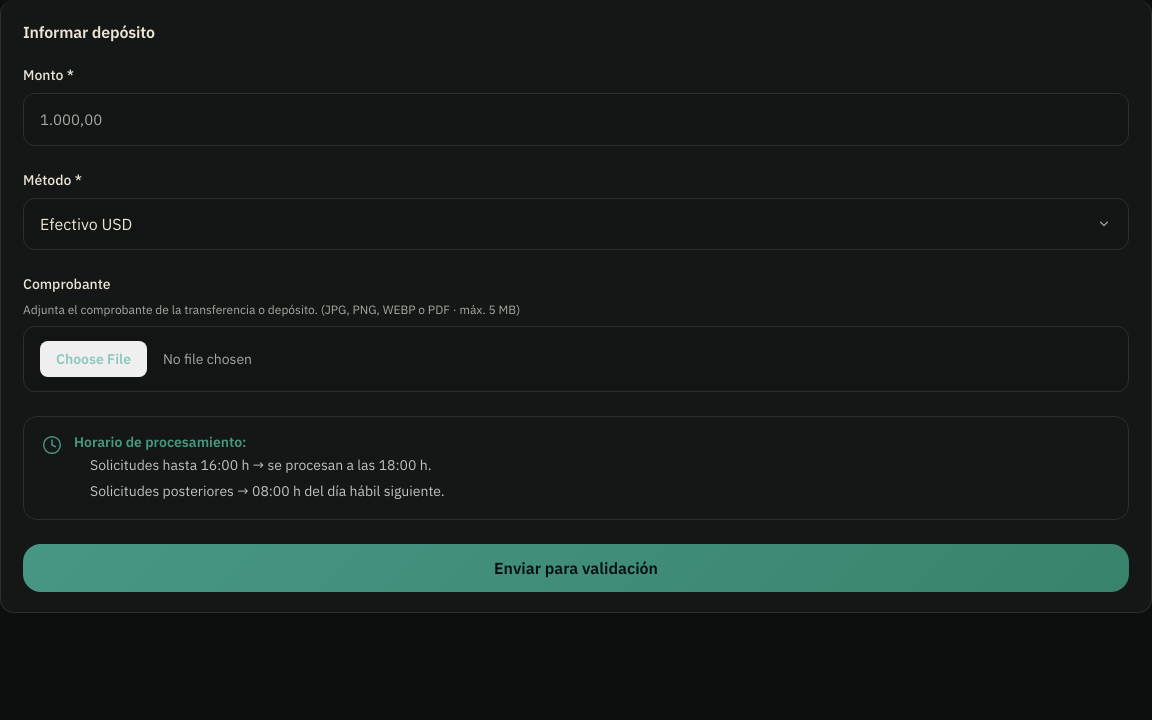
DepositForm › shows service error
Type "10" into the number field labelled "Monto *" at (576, 119), box [23, 93, 1129, 146]
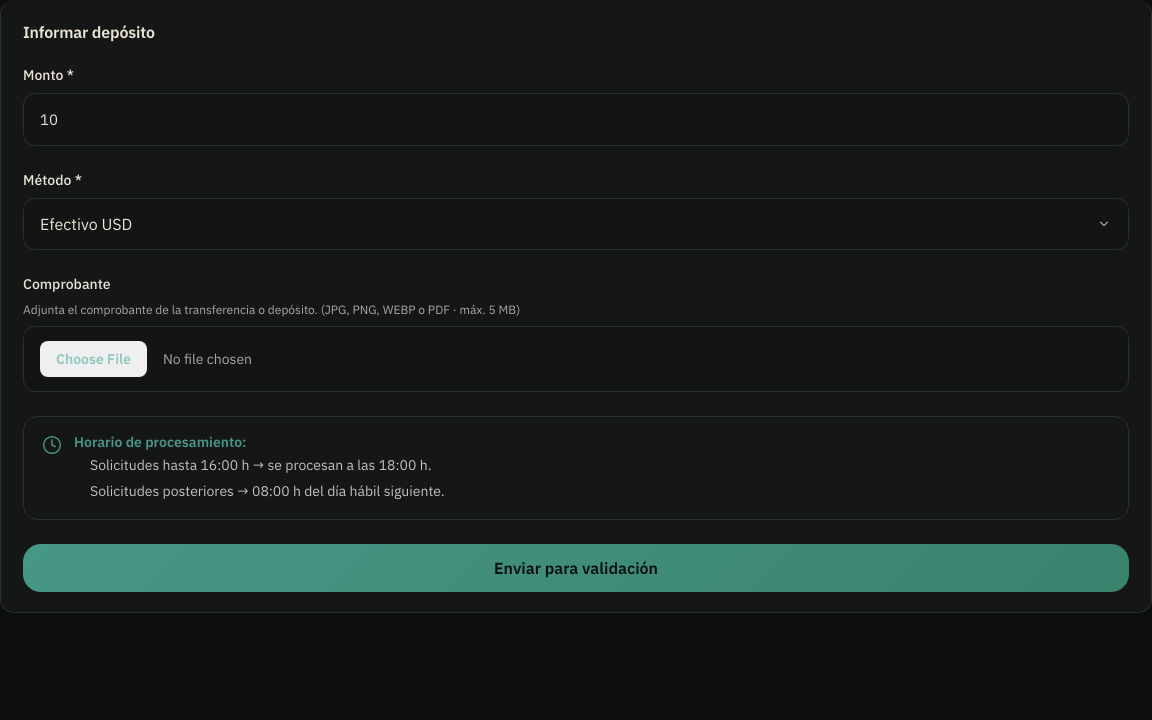
Submit the form
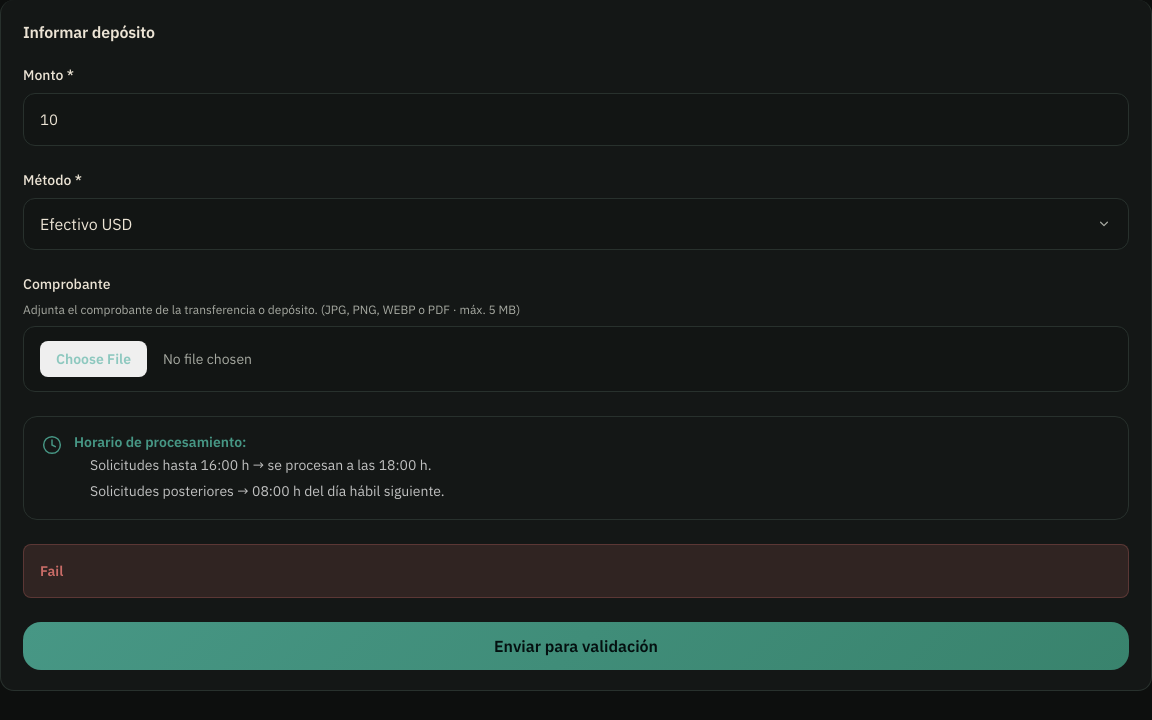
Check: the message reads "Fail", box [40, 562, 63, 580]
